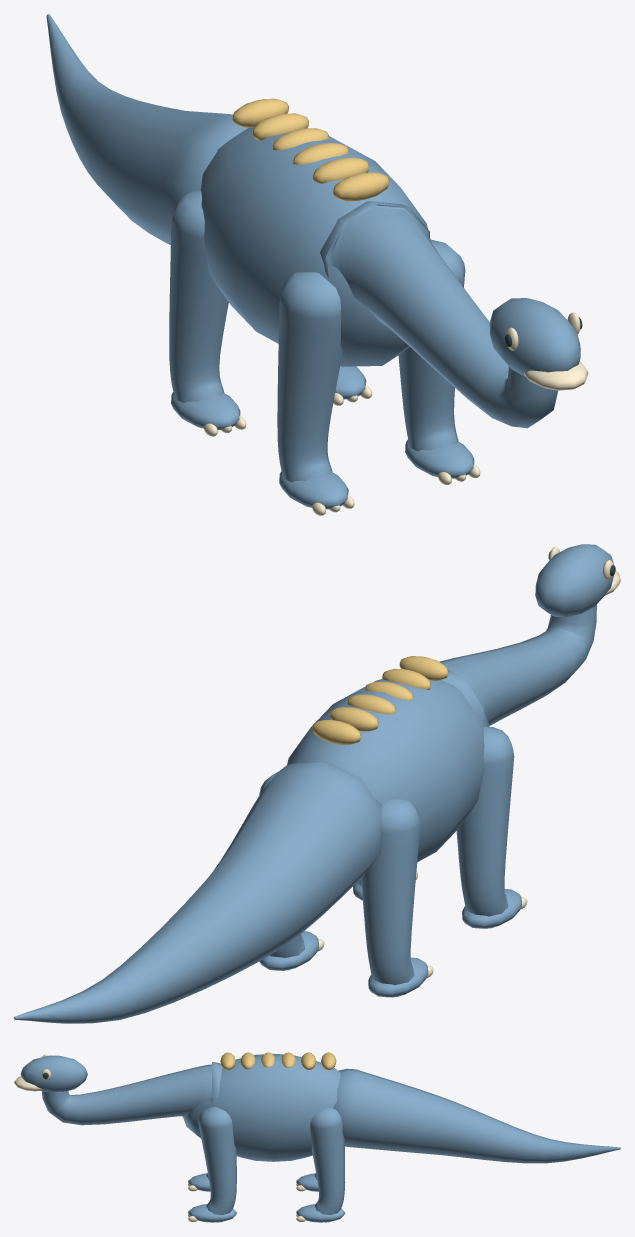
File: lost-valley-dinosaurs-diplodocus-f9419492__1668.glb
3 renders of one model, top to bottom at view 1: azimuth 30°, elevation 25°; view 2: azimuth 150°, elevation 25°; view 3: azimuth 270°, elevation 25°, orthographic. The views are drawn at different scales.
Parts seen in each view (by area): view 1: diplodocus; view 2: diplodocus; view 3: diplodocus.
Boxes of the visible parts, x1,y1,x2,y2 form: diplodocus: (46,14,588,515); diplodocus: (14,544,620,1023); diplodocus: (14,1052,620,1222).
Size of the model in its own units: 1.58 by 2.55 by 9.35.
